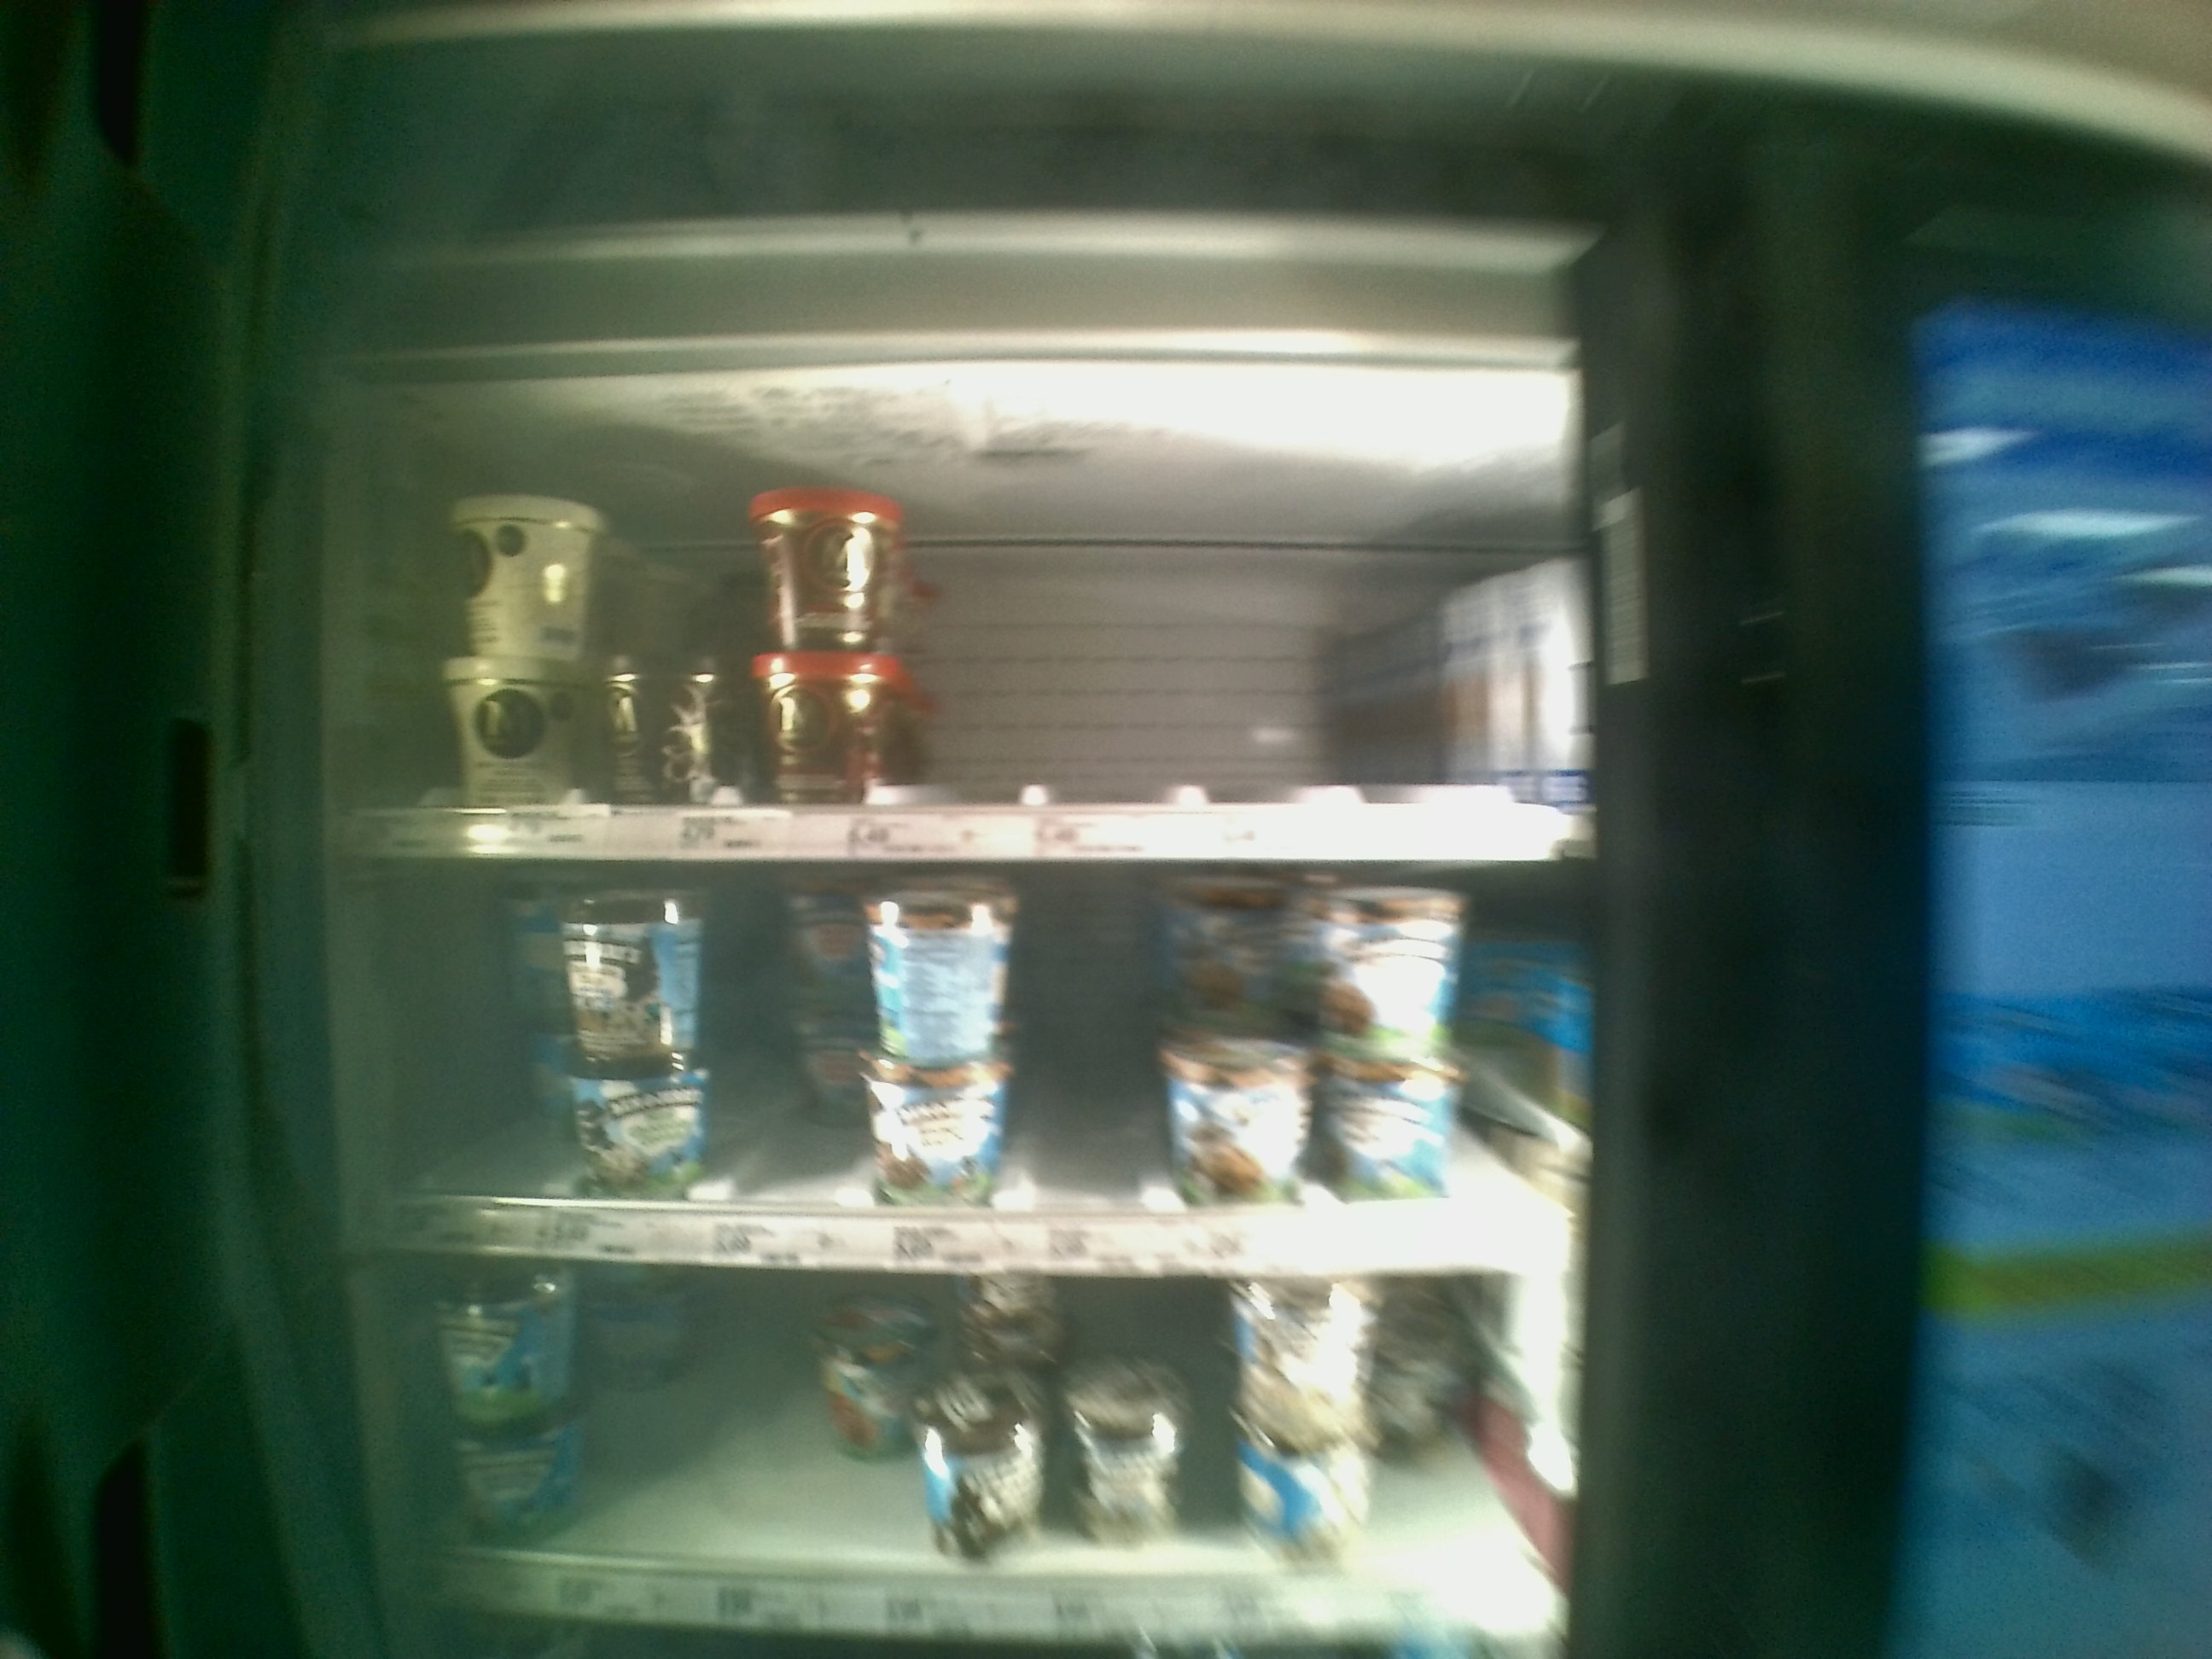shelf: (348, 401, 1627, 859), (347, 852, 1590, 1274)
